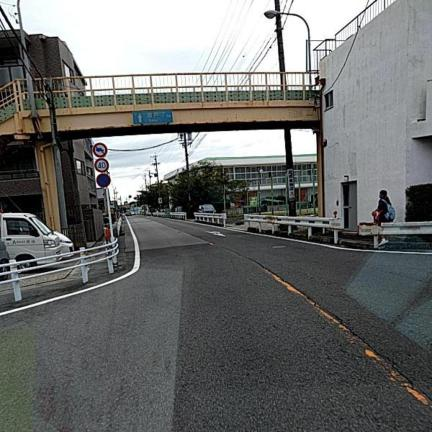Road: (0, 217, 431, 431)
